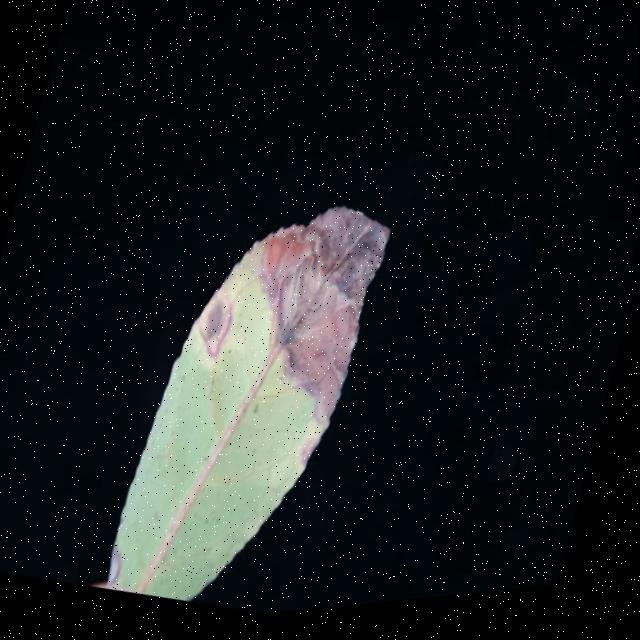Tea cloud leaf blight: (209, 173, 435, 466)
